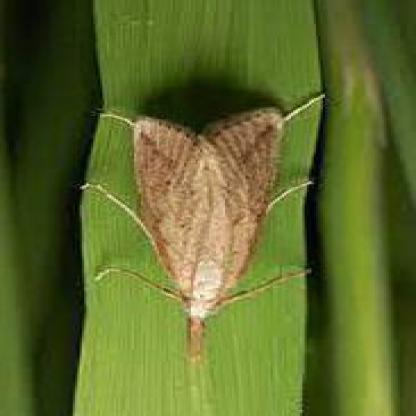stem-borer: (97, 86, 323, 362)
